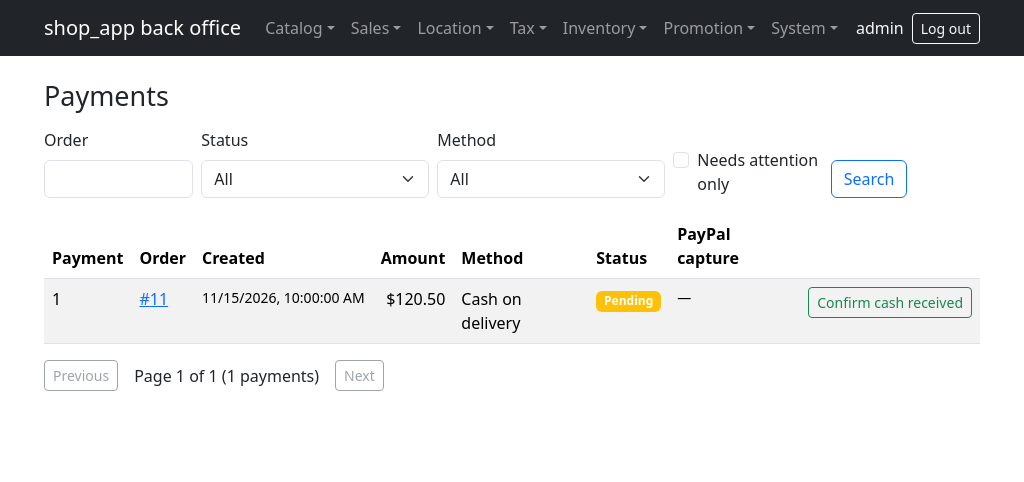
Payments page › shows why a confirmation was refused
Click the button "Confirm cash received". click: [890, 303]
box: [808,287,972,318]
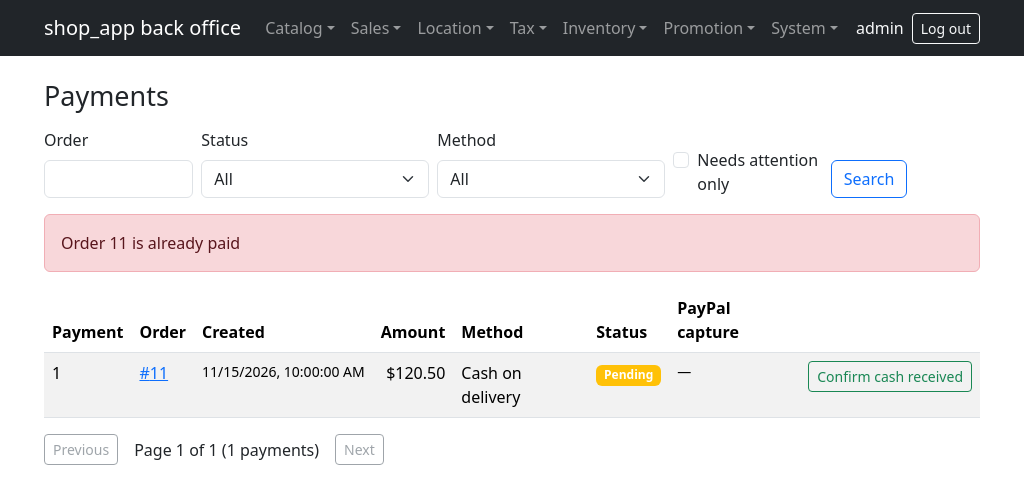
Now the text "Order 11 is already paid" is shown, box [44,214,980,272]
